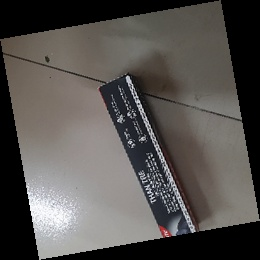Colgate Than: (97, 72, 201, 245)
